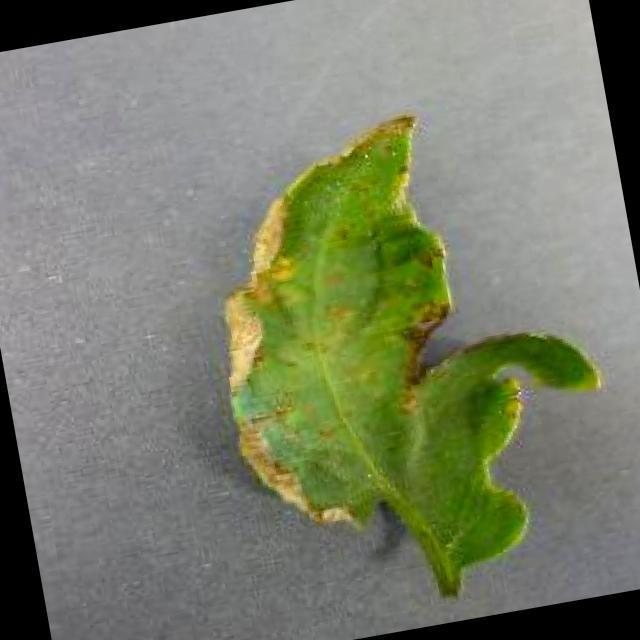Tomato bacterial spot leaf: (178, 80, 638, 605)
